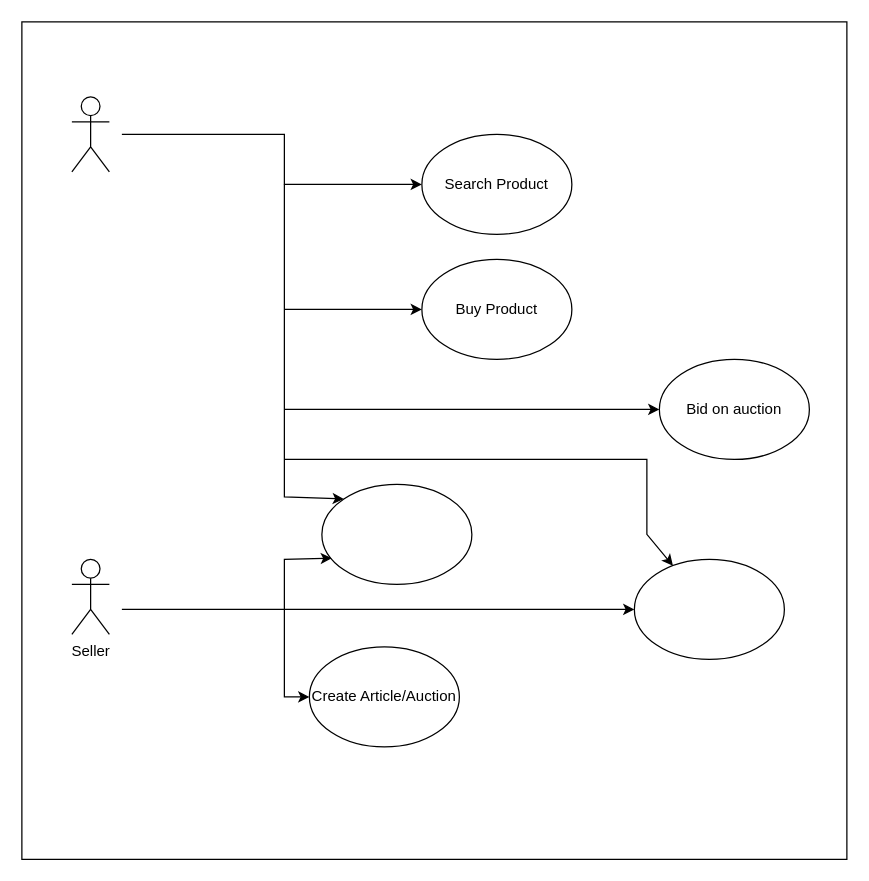
Image size: 869x881. Some labels were removed from this diagram. Here are the shapes that lost their labels. From the top down, the centre of each, then its label:
(x=90, y=134): Shopper
(x=396, y=533): Create Account
(x=708, y=608): Track Bidding History
